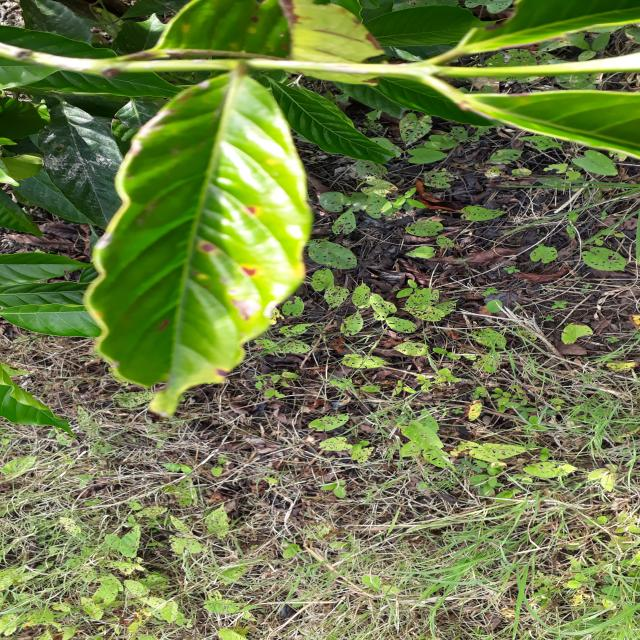Enfermedad-Roya: (82, 71, 314, 417)
